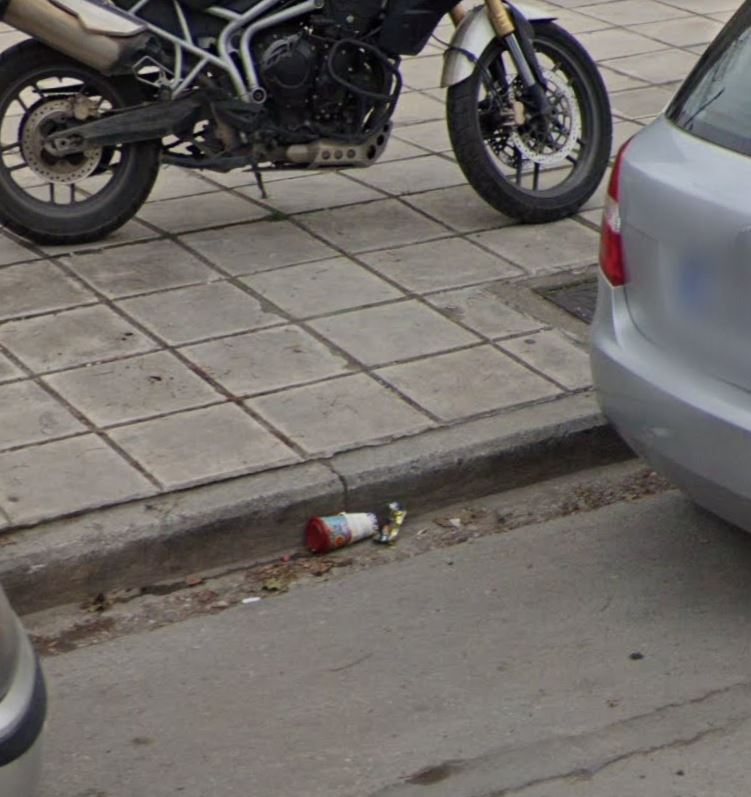trash: (293, 500, 421, 558)
